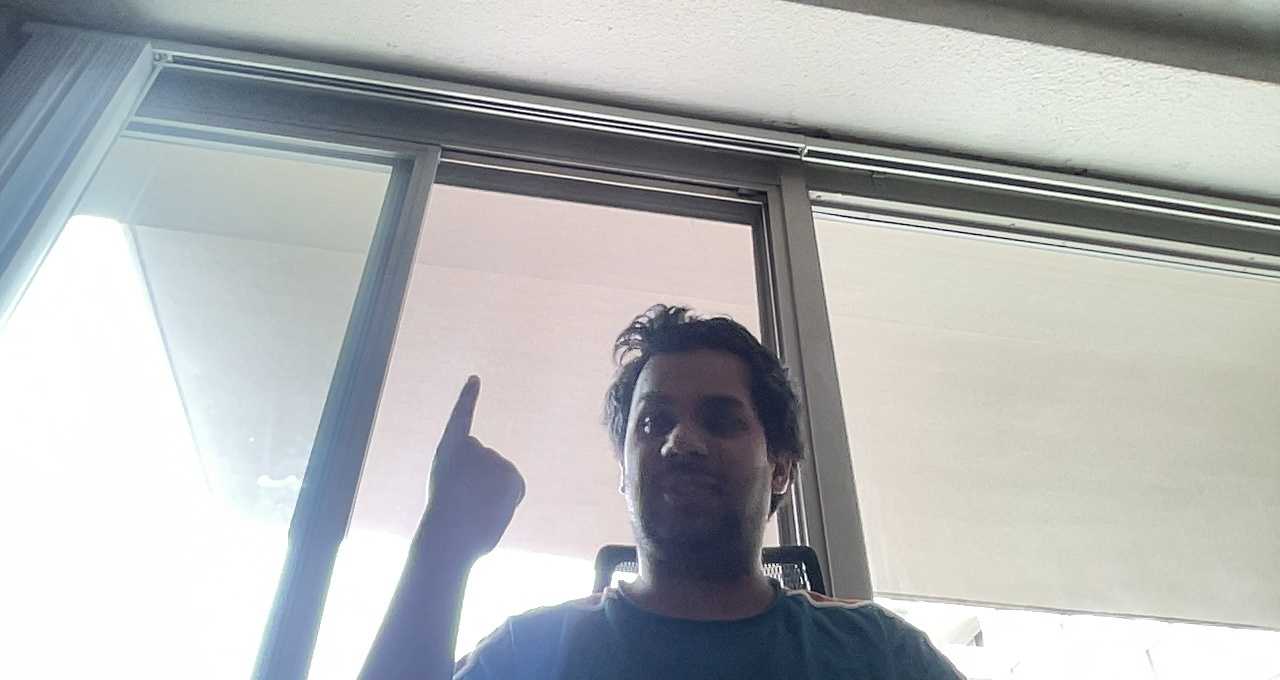fingerup: (421, 371, 534, 556)
